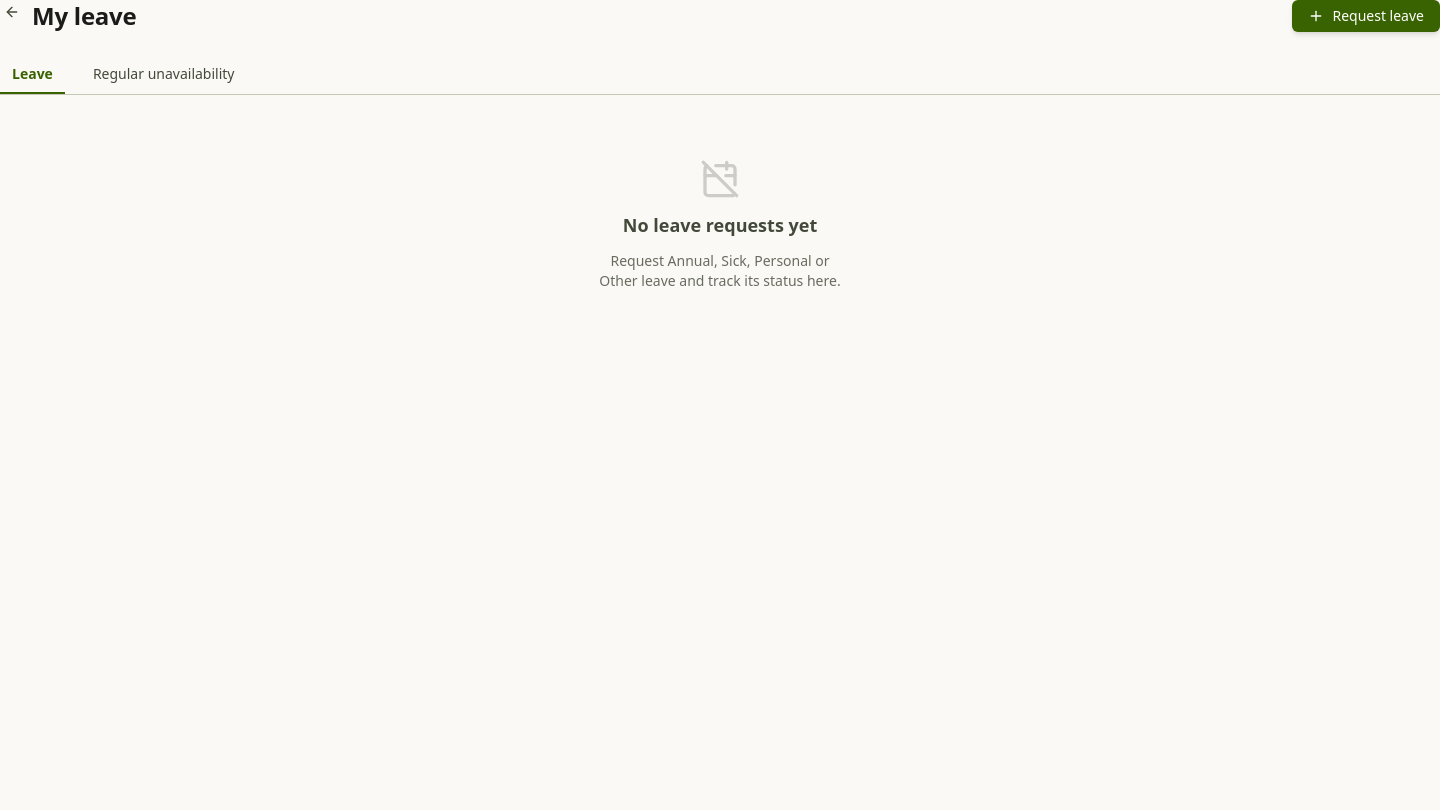
Test: PortalLeavePage › surfaces the server error message when submitting fails
Click the button "Request leave" at (1366, 16), box [1292,0,1439,32]
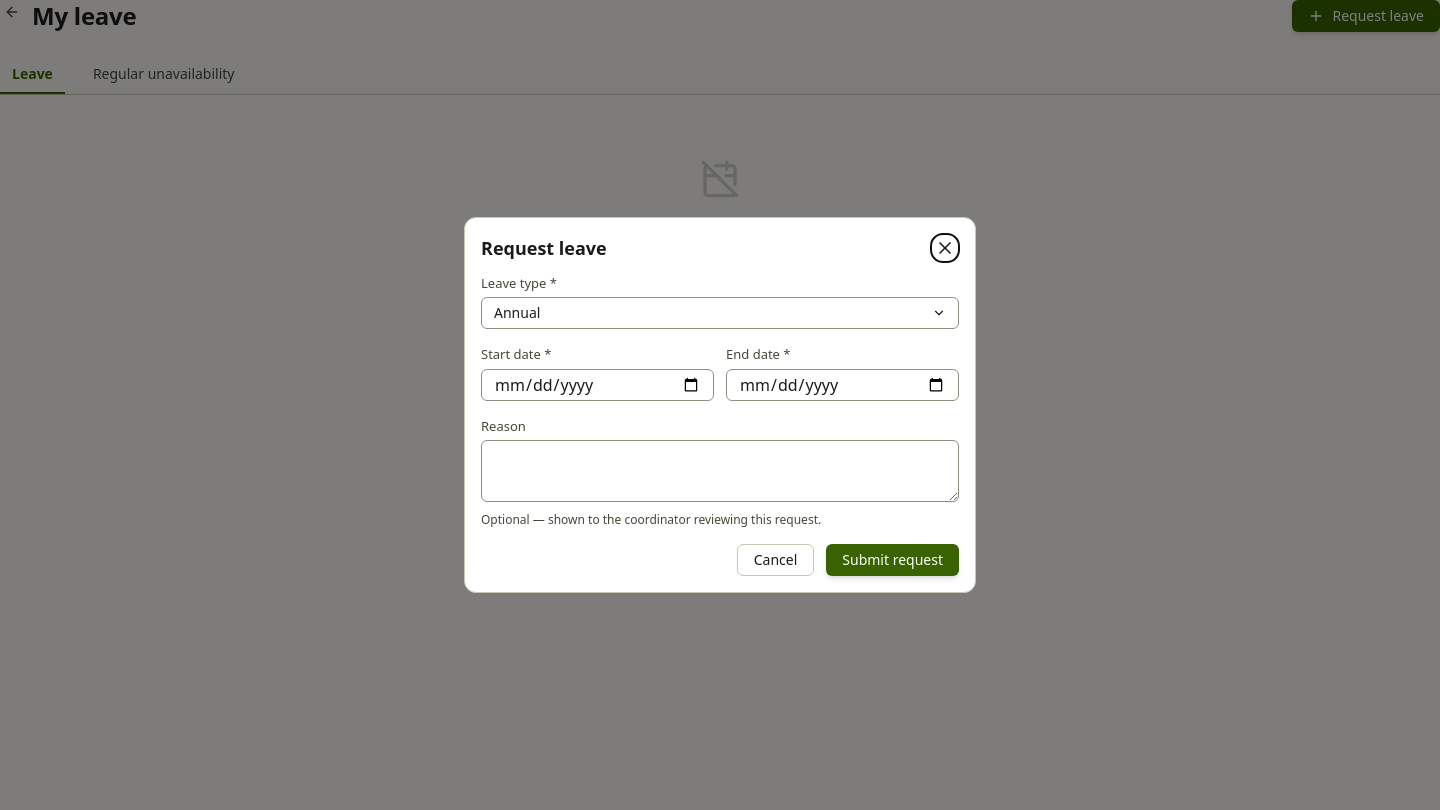
Type "2026-09-14" into the date field labelled "Start date *" at (598, 385), box [481,369,714,401]
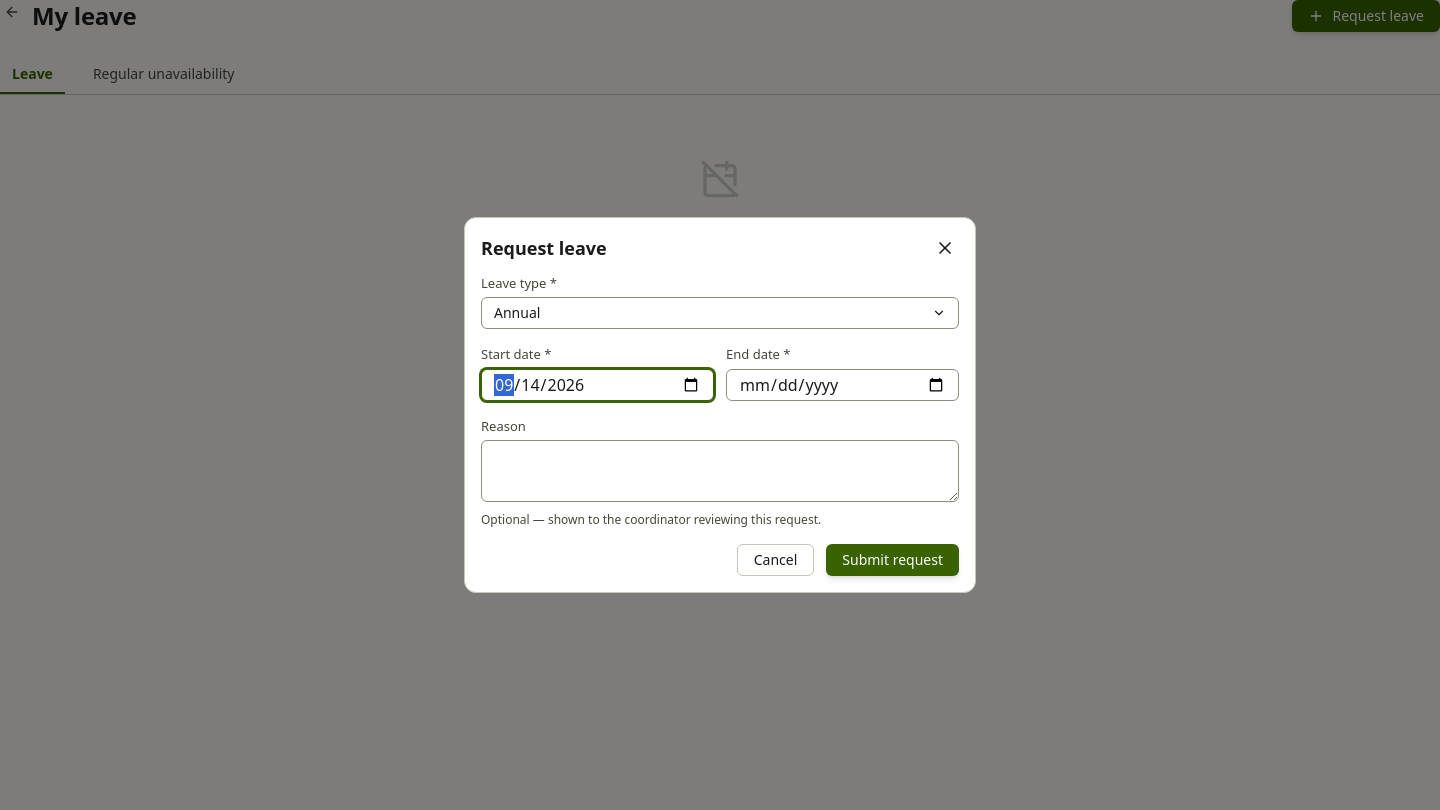
Type "2026-09-18" into the date field labelled "End date *" at (842, 385), box [726,369,959,401]
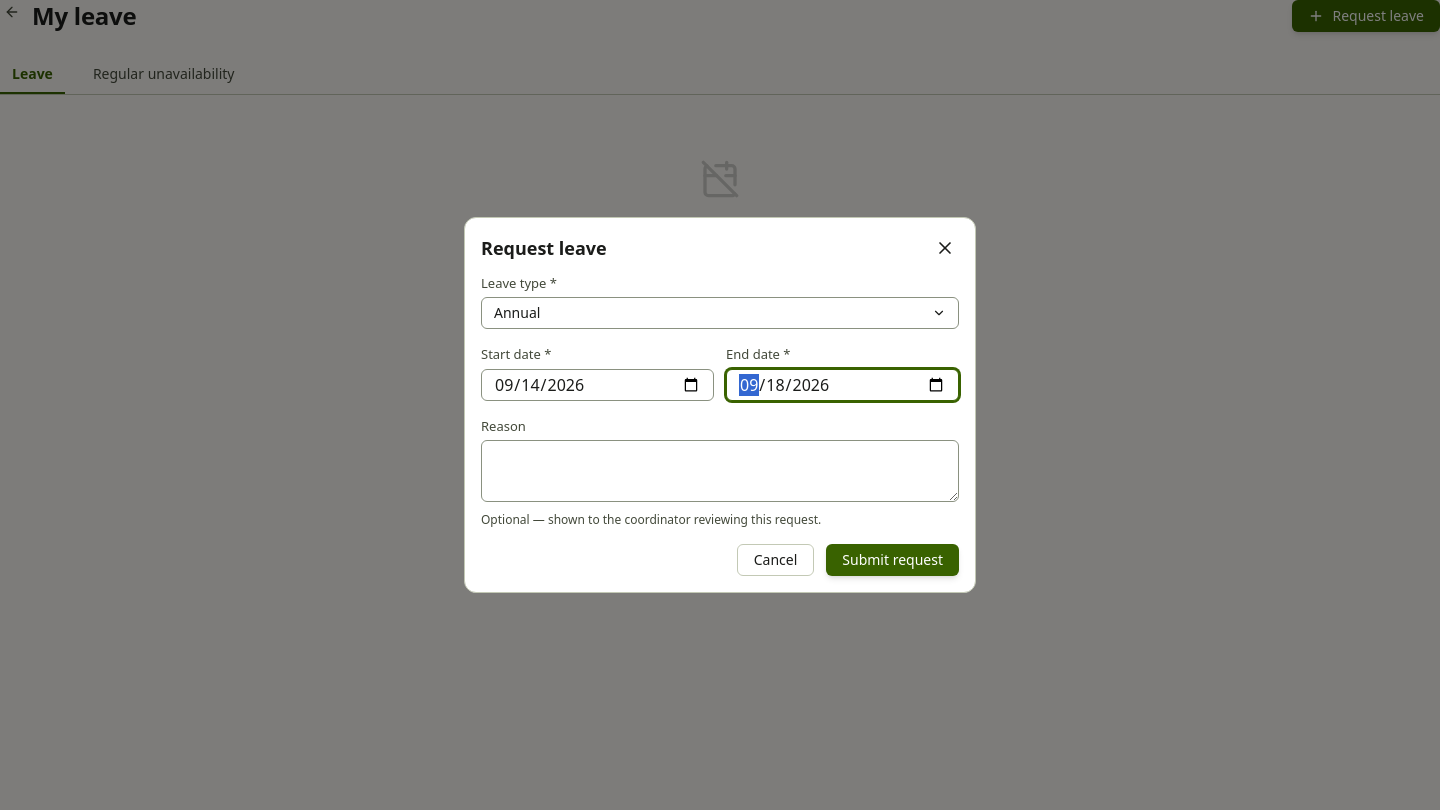
Click the button "Submit request" at (893, 560), box [826,544,959,576]
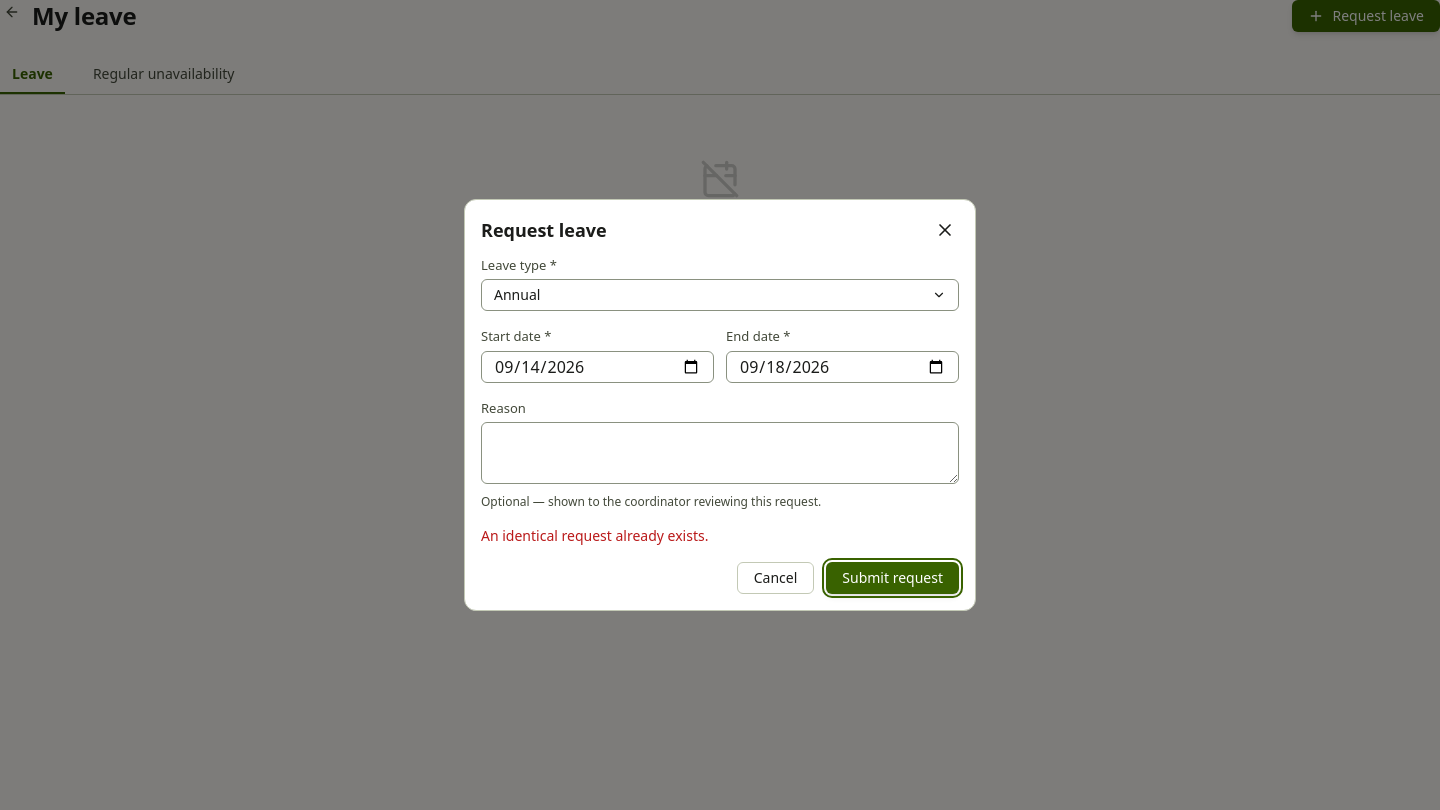
Expected: the text "An identical request already exists." is shown, [481,526,708,545]
